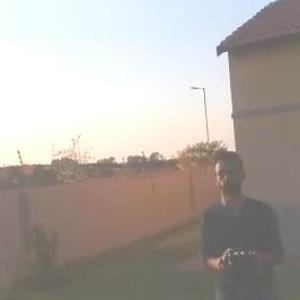follow: (196, 145, 292, 299)
